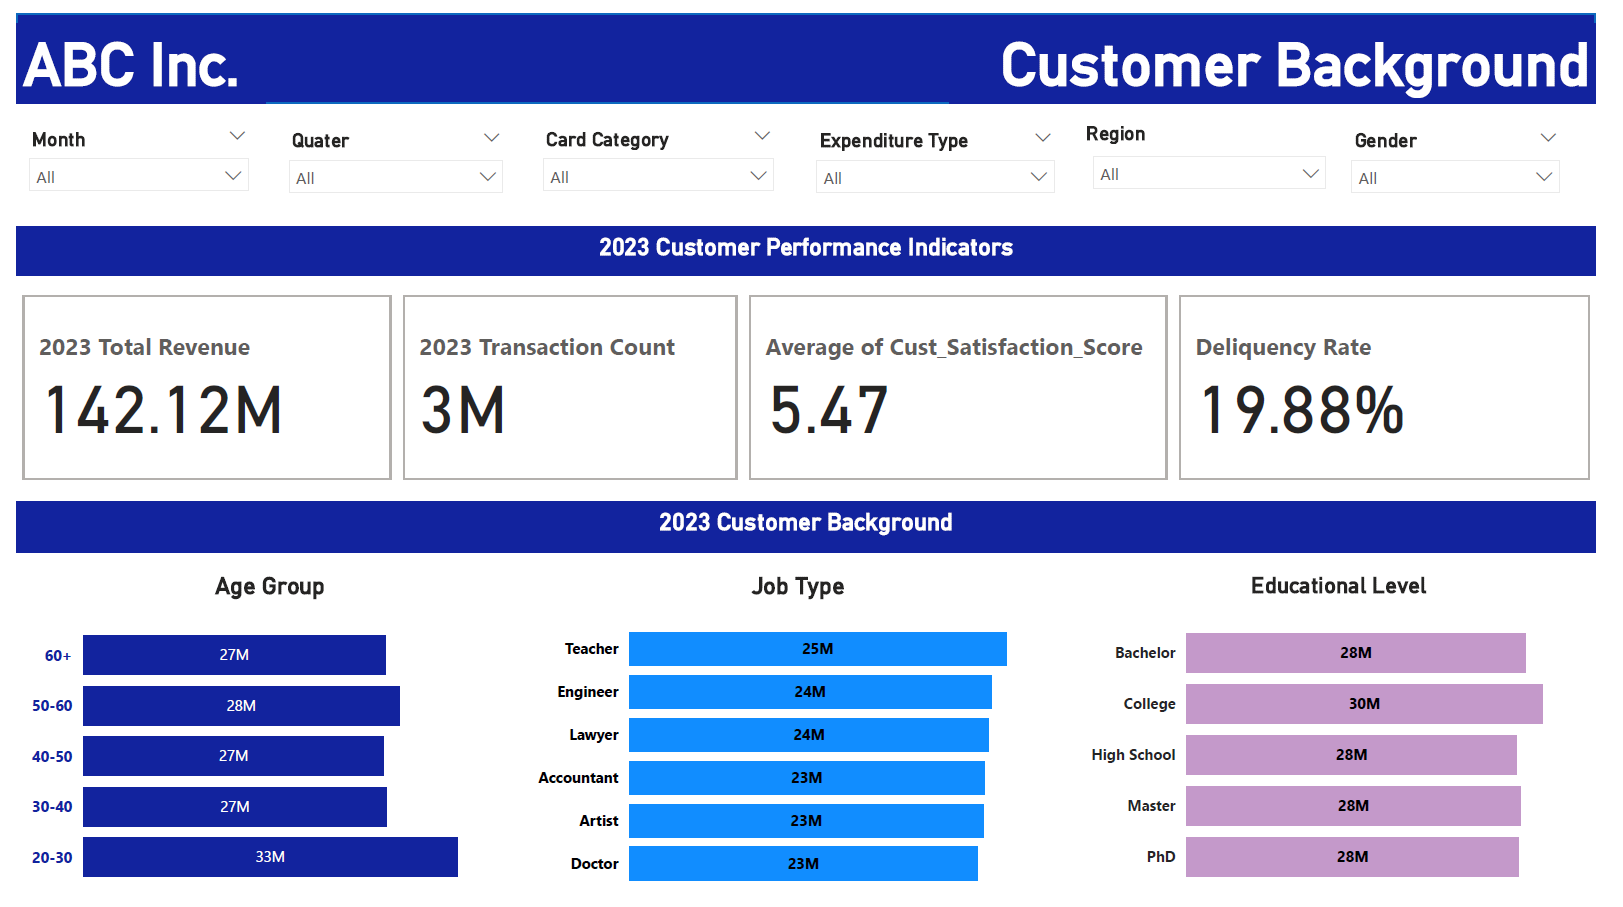

The dashboard page shown, as its layout file describes it:
{"tool":"powerbi","page":{"name":"Customer Background","canvas":[1280,720],"ordinal":2},"visuals":[{"type":"cardVisual","fields":{"Data":["Sum(credit_card_detail_1103.Total_Trans_CT)"]},"box":[307.7,223.5,280.1,158.7],"z":0},{"type":"cardVisual","fields":{"Data":["Avg(customer_detail_1103.Cust_Satisfaction_Score)"]},"box":[587.8,223.5,348.1,158.7],"z":1000},{"type":"barChart","title":"Job Type","fields":{"Category":["customer_detail_1103.Customer_Job"],"Y":["Sum(credit_card_detail_1103.Total_Revenue)"]},"box":[416.1,451.8,434,268.8],"z":2000},{"type":"barChart","title":"Educational Level","fields":{"Category":["customer_detail_1103.Educational_Level"],"Y":["Sum(credit_card_detail_1103.Total_Revenue)"]},"box":[863,451.8,414.5,268.8],"z":3000},{"type":"barChart","title":"Age Group","fields":{"Category":["customer_detail_1103.Age_Group"],"Y":["Sum(credit_card_detail_1103.Total_Revenue)"]},"box":[6.5,451.8,398.3,268.8],"z":4000},{"type":"cardVisual","fields":{"Data":["credit_card_detail_1103.Deliquency Rate"]},"box":[935.9,223.5,341.7,158.7],"z":5000},{"type":"slicer","fields":{"Values":["credit_card_detail_1103.Qtr"]},"box":[210,88,194.3,58.3],"z":6000},{"type":"slicer","fields":{"Values":["credit_card_detail_1103.Card_Category"]},"box":[416.1,87.4,207.3,58.3],"z":7000},{"type":"slicer","fields":{"Values":["customer_detail_1103.Gender"]},"box":[1069.8,88,189.4,56.7],"z":8000},{"type":"slicer","fields":{"Values":["credit_card_detail_1103.Exp_Type"]},"box":[637.4,88,212.1,58.3],"z":9000},{"type":"slicer","title":"Region","fields":{"Values":["customer_detail_1103.State_cd"]},"box":[861.4,87.4,208.9,56.7],"z":10000},{"type":"slicer","fields":{"Values":["credit_card_detail_1103.Month"]},"box":[0,87.4,197.5,56.7],"z":11000},{"type":"cardVisual","fields":{"Data":["Sum(credit_card_detail_1103.Total_Revenue)"]},"box":[0,223.5,307.7,158.7],"z":12000},{"type":"textbox","box":[0,395.1,1277.6,40.5],"z":13000},{"type":"textbox","box":[0,171.6,1277.6,40.5],"z":14000},{"type":"shape","box":[0,0,1279.7,72.5],"z":15000},{"type":"textbox","box":[0,8.1,200.6,64.5],"z":16000},{"type":"textbox","box":[739.7,8.1,540,64.5],"z":17000}]}

Visuals, with their boxes in screenshot pixels (x1, y1, x2, y2), scaled from the page's 1280x720 canvas onto the 1623x907 screenshot:
cardVisual - Sum(credit_card_detail_1103.Total_Trans_CT): (390,282,745,481)
cardVisual - Avg(customer_detail_1103.Cust_Satisfaction_Score): (745,282,1187,481)
"Job Type" barChart: (528,569,1078,906)
"Educational Level" barChart: (1094,569,1620,906)
"Age Group" barChart: (8,569,513,906)
cardVisual - credit_card_detail_1103.Deliquency Rate: (1187,282,1620,481)
slicer - credit_card_detail_1103.Qtr: (266,111,513,184)
slicer - credit_card_detail_1103.Card_Category: (528,110,790,184)
slicer - customer_detail_1103.Gender: (1356,111,1597,182)
slicer - credit_card_detail_1103.Exp_Type: (808,111,1077,184)
"Region" slicer: (1092,110,1357,182)
slicer - credit_card_detail_1103.Month: (0,110,250,182)
cardVisual - Sum(credit_card_detail_1103.Total_Revenue): (0,282,390,481)
textbox: (0,498,1620,549)
textbox: (0,216,1620,267)
shape: (0,0,1622,91)
textbox: (0,10,254,91)
textbox: (938,10,1622,91)
